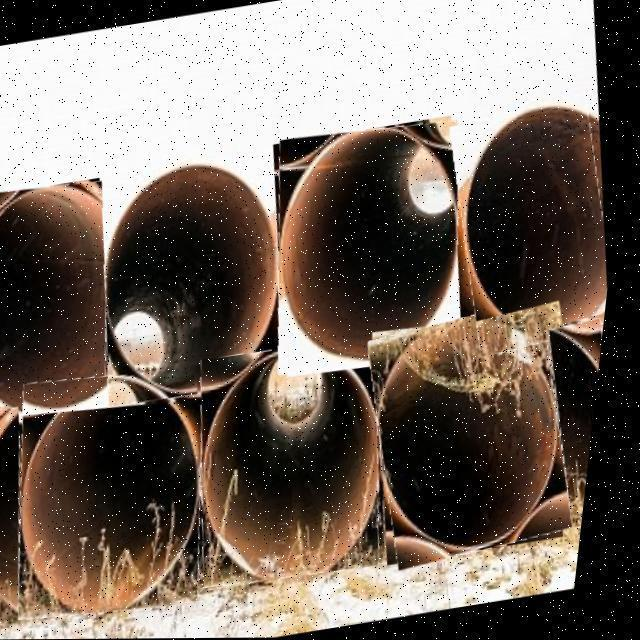pipe: (376, 300, 584, 571), (106, 152, 289, 407), (283, 121, 465, 375), (210, 339, 393, 589), (33, 367, 211, 620), (454, 95, 614, 357), (0, 181, 114, 425), (557, 319, 610, 516), (0, 407, 32, 626)
